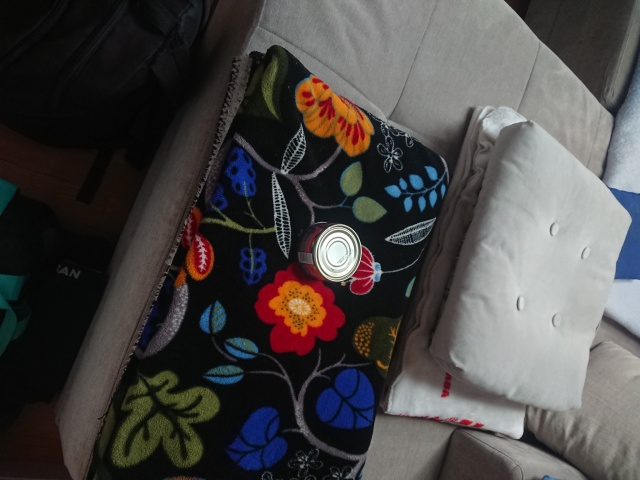Giana Tuna Salad Mexico 185g: (294, 220, 364, 284)
